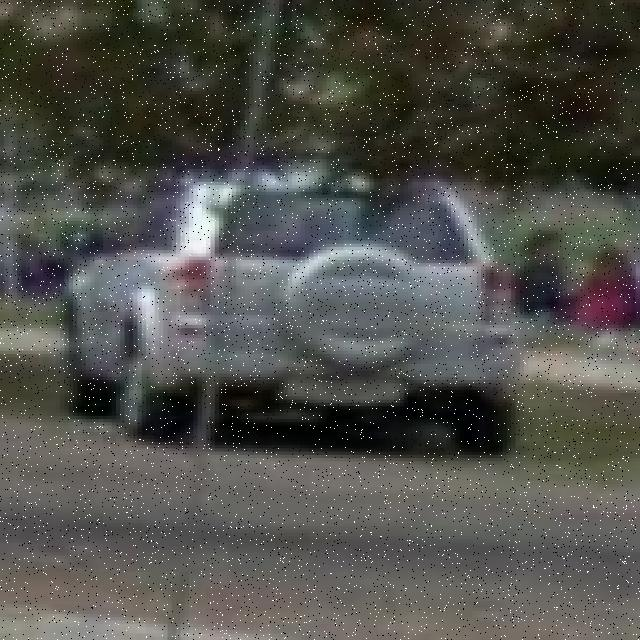cars: (55, 181, 534, 445)
